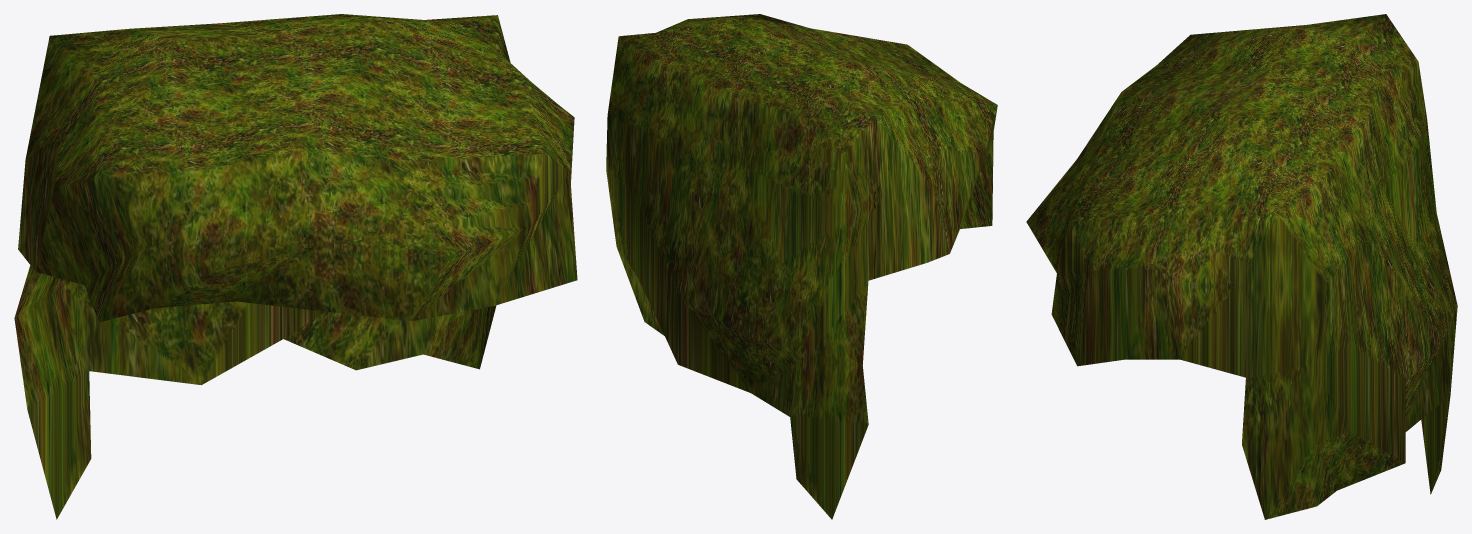
Rendered from TROLLHOLE02_RM_PSURF97.fbx.
3 renders of one model, left to right at view 1: azimuth 30°, elevation 25°; view 2: azimuth 150°, elevation 25°; view 3: azimuth 270°, elevation 25°, orthographic. The views are drawn at different scales.
Parts seen in each view (by area): view 1: TROLLHOLE02_RM_PSURF97; view 2: TROLLHOLE02_RM_PSURF97; view 3: TROLLHOLE02_RM_PSURF97.
Boxes of the visible parts, bbox=[...] form: TROLLHOLE02_RM_PSURF97: bbox=[14, 14, 577, 519]; TROLLHOLE02_RM_PSURF97: bbox=[606, 14, 997, 519]; TROLLHOLE02_RM_PSURF97: bbox=[1026, 14, 1457, 519].
Bounding box in the file's own units: 102423 × 108313 × 87599.
1 material, 1 textured.
